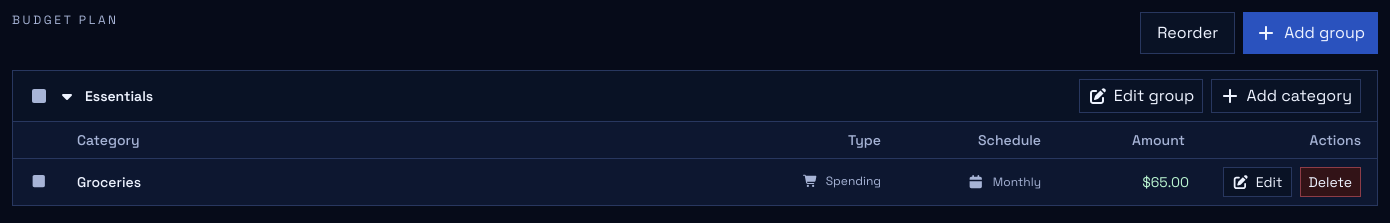
Test: budget mutation feedback › collapses and expands budget plan groups from their headers
expect the text "Groceries" is shown: met, box x1=77 y1=173 x2=141 y2=191
Click the button named "Collapse Essentials".
click(67, 96)  # box x1=57 y1=86 x2=77 y2=106
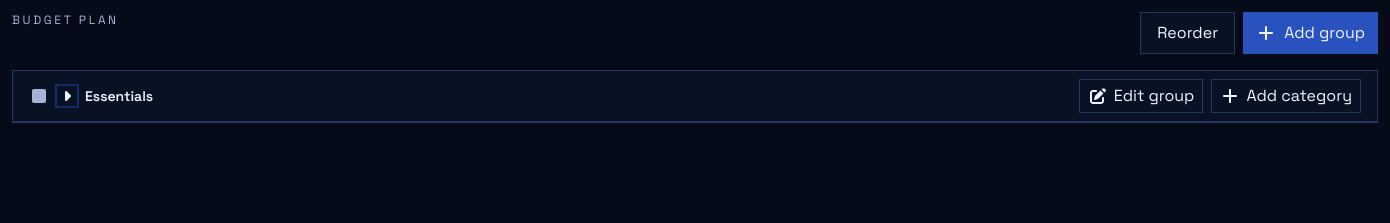
expect the button named "Expand Essentials" is collapsed: met
expect the text "Groceries" is gone: met
Click the button named "Expand Essentials".
click(67, 96)  # box x1=57 y1=86 x2=77 y2=106
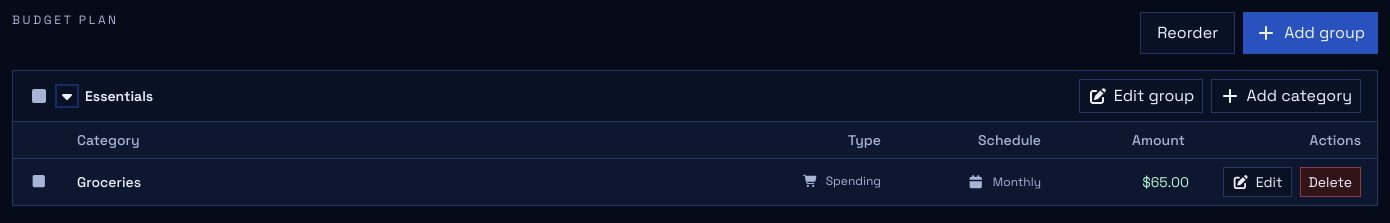
expect the button named "Collapse Essentials" is expanded: met, box x1=57 y1=86 x2=77 y2=106
expect the text "Groceries" is shown: met, box x1=77 y1=173 x2=141 y2=191
